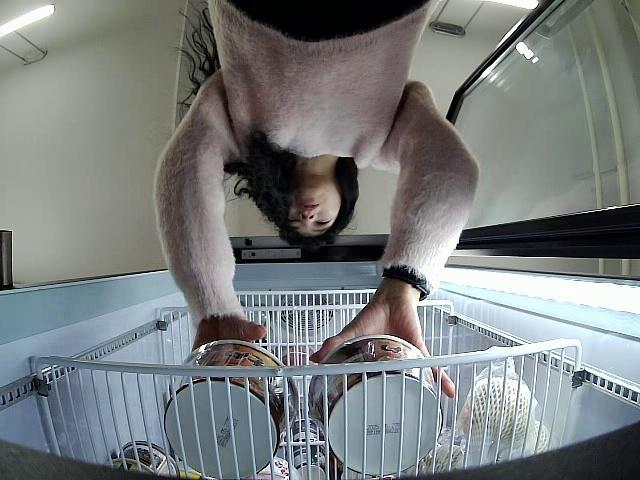05_nuguri_L: (163, 337, 300, 480), (304, 336, 443, 476)
